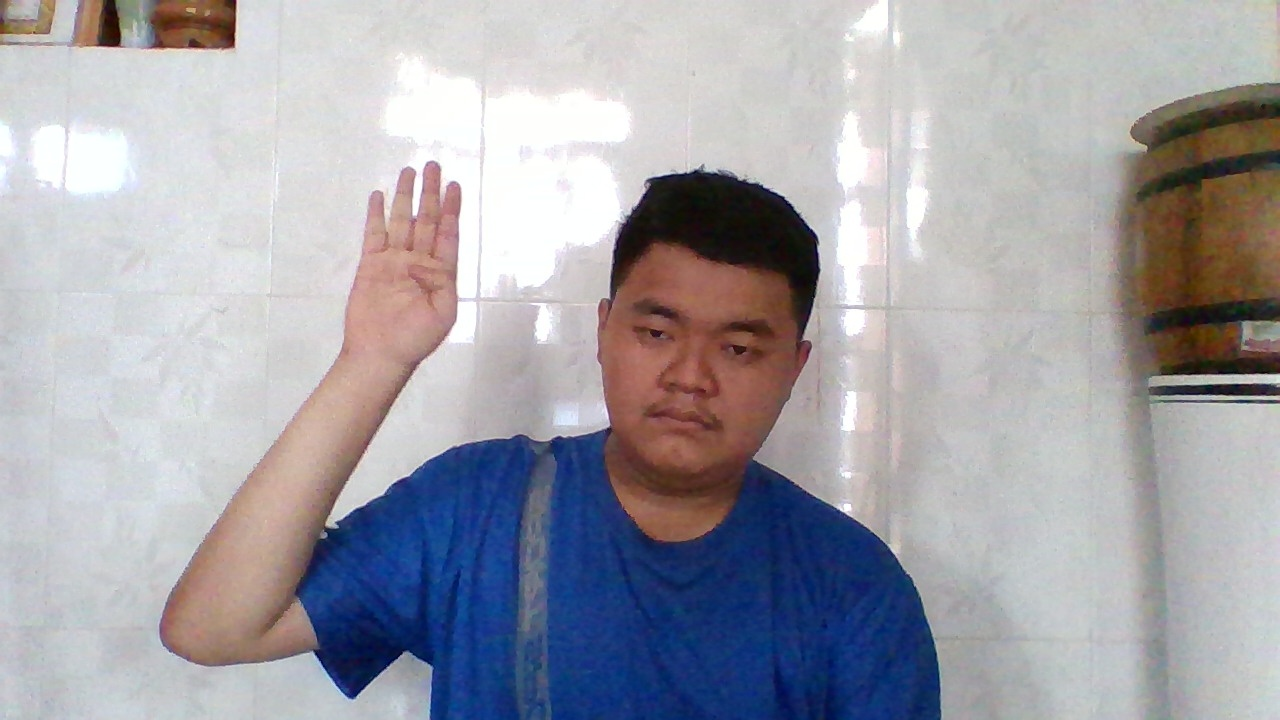B: (355, 152, 470, 375)
